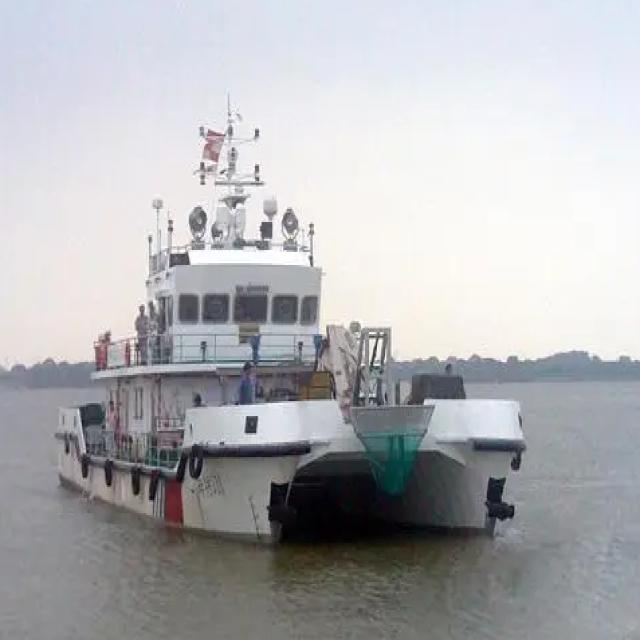houseboat: (65, 132, 527, 570)
